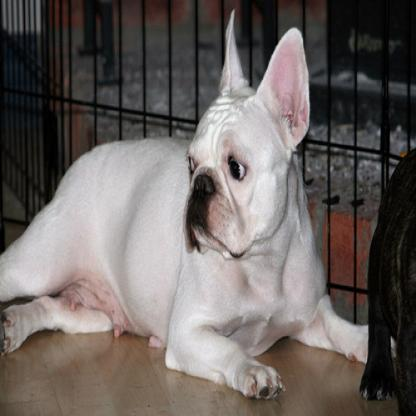French_bulldog: (0, 6, 399, 401)
